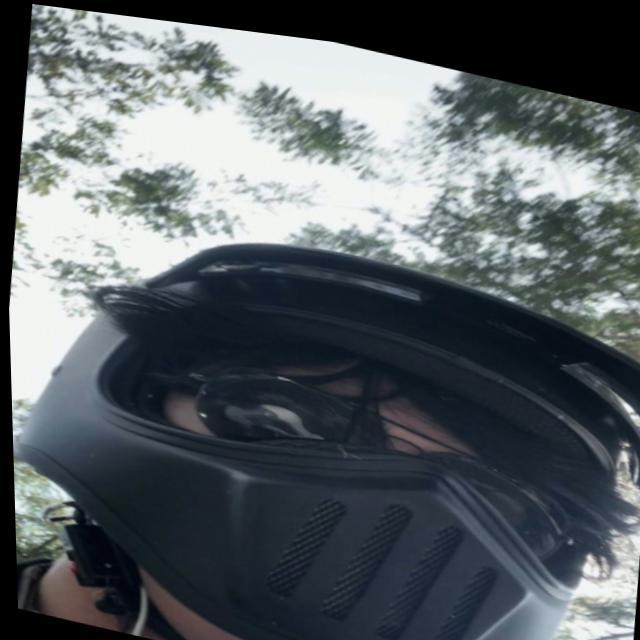Helmet: (17, 239, 638, 639)
